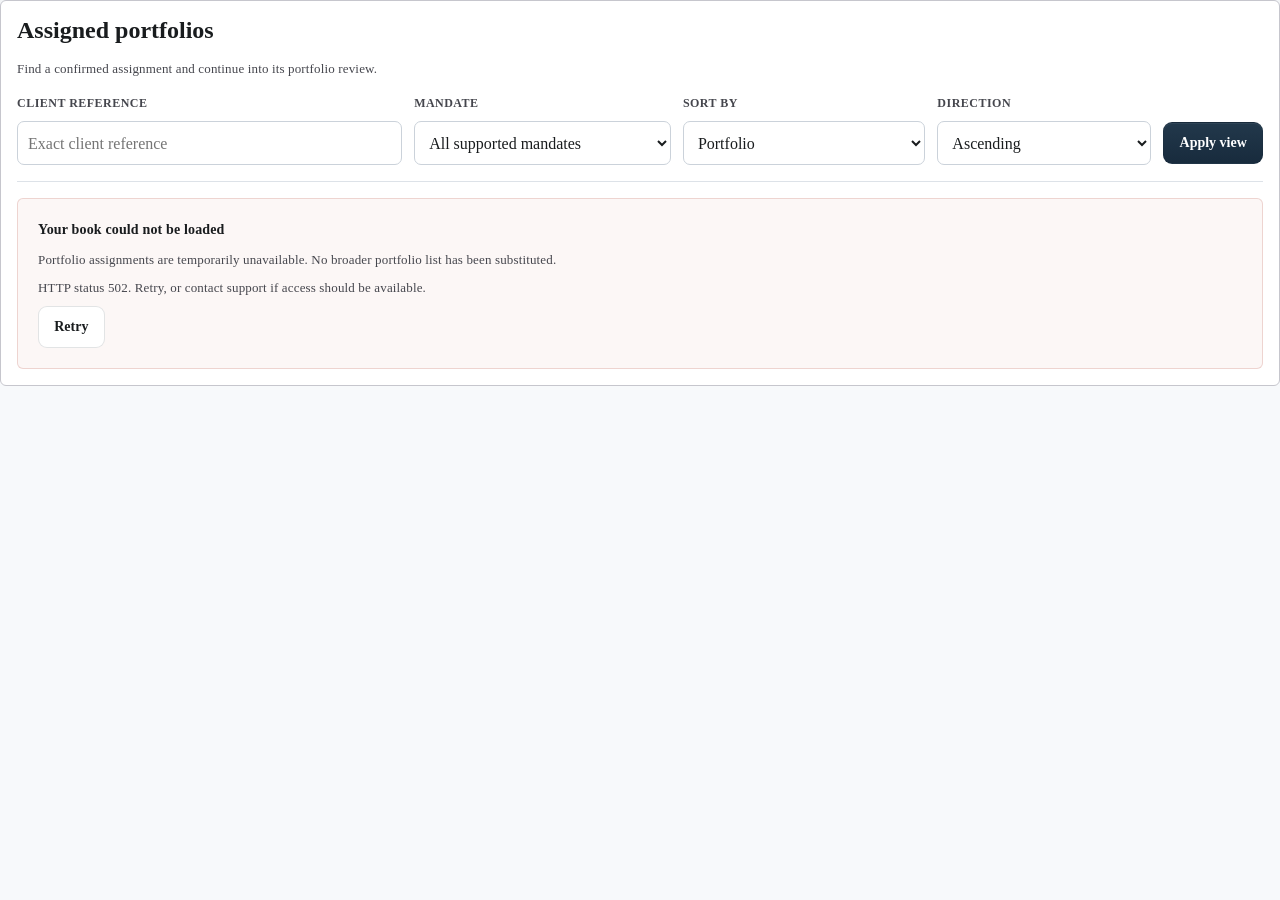
Test: AdvisorBookWorkspace › retries a failed source request
Check: the text "HTTP status 502" is shown, box [38,280,426,295]
Click the button "Retry": (71,327) [38,306,105,348]
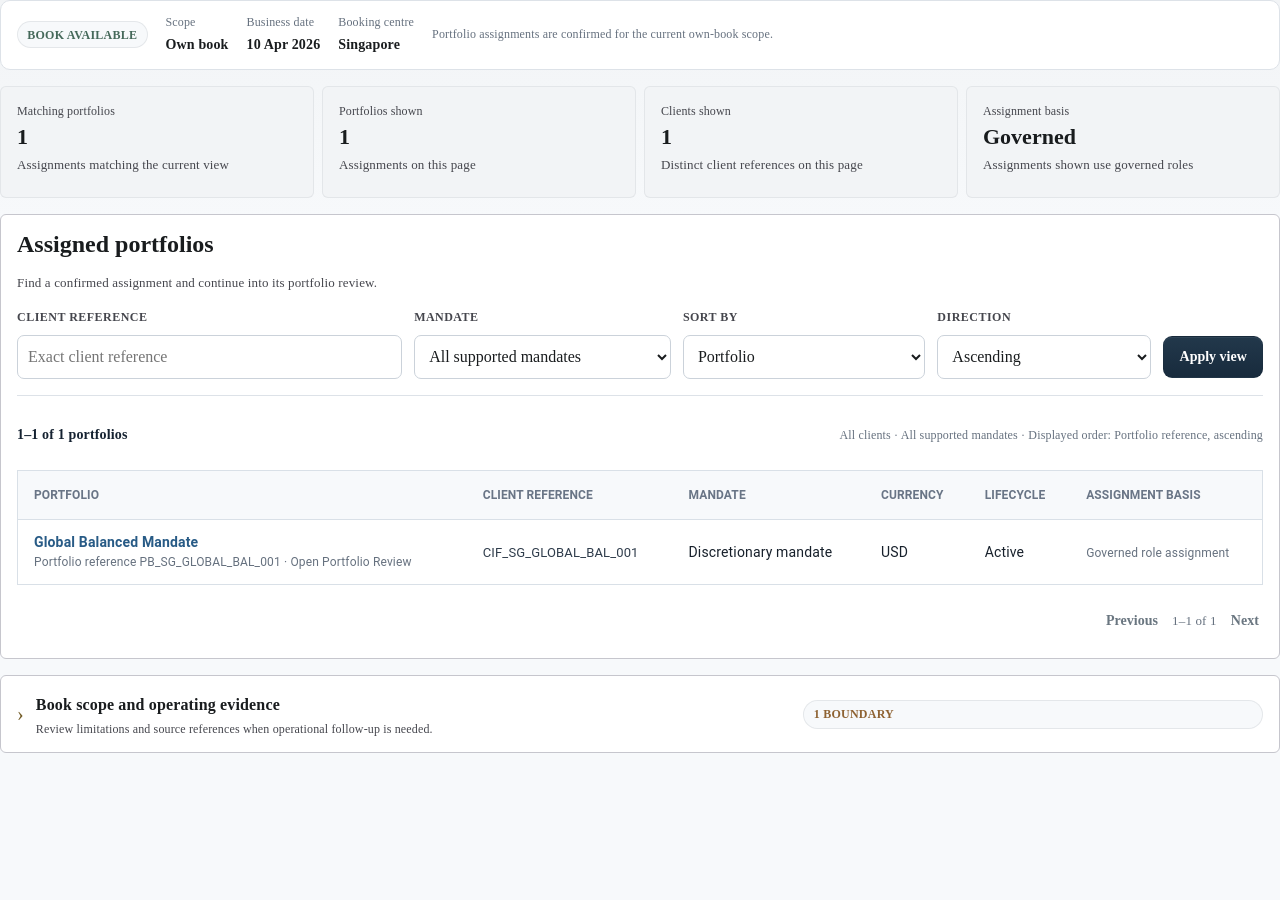
Check: the text "Book available" is shown, box [17,21,148,48]
